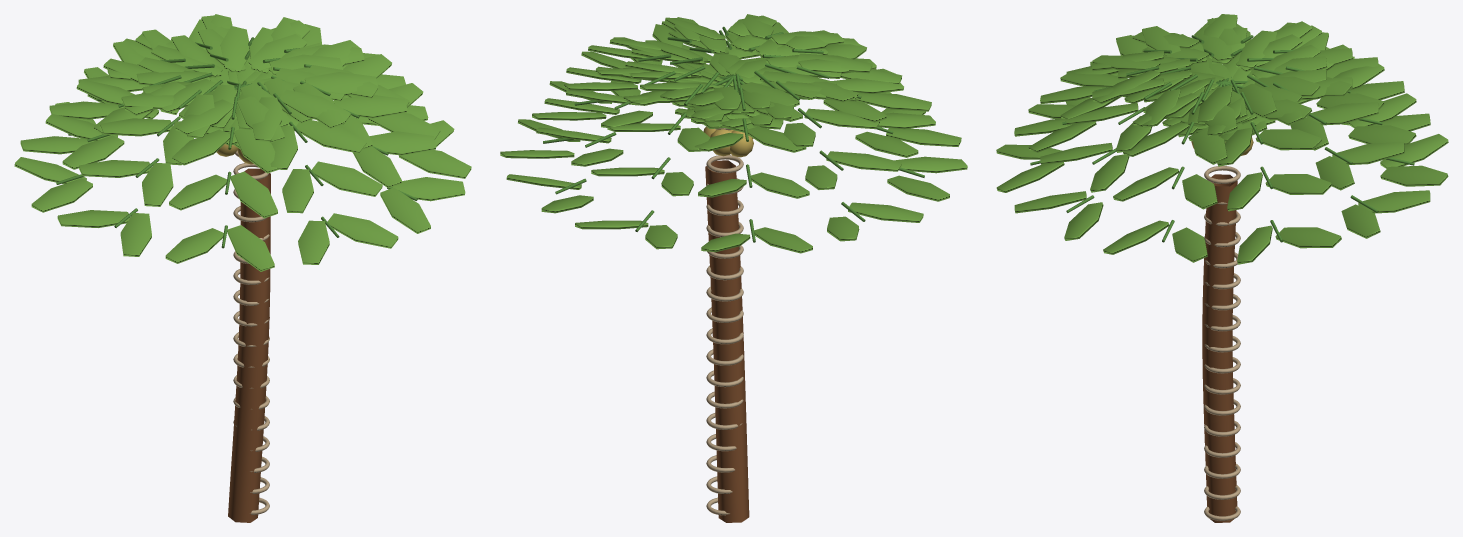
File: LV_CAY_CAU_01.glb
3 renders of one model, left to right at view 1: azimuth 30°, elevation 25°; view 2: azimuth 150°, elevation 25°; view 3: azimuth 270°, elevation 25°, orthographic. The views are drawn at different scales.
Visible parts, largest first — view 1: palm-fronds-surface-6b9c41, LV_CAY_CAU_01-surface-825331, palm-fronds-surface-53873a, LV_CAY_CAU_01-surface-b5a081; view 2: palm-fronds-surface-6b9c41, LV_CAY_CAU_01-surface-825331, LV_CAY_CAU_01-surface-b5a081, palm-fronds-surface-53873a, LV_CAY_CAU_01-surface-baa354; view 3: palm-fronds-surface-6b9c41, LV_CAY_CAU_01-surface-825331, LV_CAY_CAU_01-surface-b5a081, palm-fronds-surface-53873a.
Part boxes in pixels (x1=…): palm-fronds-surface-6b9c41: x1=14, y1=14, x2=471, y2=271; LV_CAY_CAU_01-surface-825331: x1=228, y1=168, x2=270, y2=522; palm-fronds-surface-53873a: x1=56, y1=37, x2=417, y2=248; LV_CAY_CAU_01-surface-b5a081: x1=233, y1=150, x2=269, y2=514; palm-fronds-surface-6b9c41: x1=500, y1=14, x2=967, y2=253; LV_CAY_CAU_01-surface-825331: x1=705, y1=160, x2=749, y2=522; LV_CAY_CAU_01-surface-b5a081: x1=706, y1=128, x2=743, y2=515; palm-fronds-surface-53873a: x1=543, y1=26, x2=924, y2=242; LV_CAY_CAU_01-surface-baa354: x1=703, y1=126, x2=753, y2=157; palm-fronds-surface-6b9c41: x1=996, y1=14, x2=1448, y2=264; LV_CAY_CAU_01-surface-825331: x1=1202, y1=174, x2=1237, y2=522; LV_CAY_CAU_01-surface-b5a081: x1=1204, y1=166, x2=1240, y2=520; palm-fronds-surface-53873a: x1=1030, y1=35, x2=1414, y2=242.
Size of the model in its own units: 4.52 by 4.93 by 4.48.
